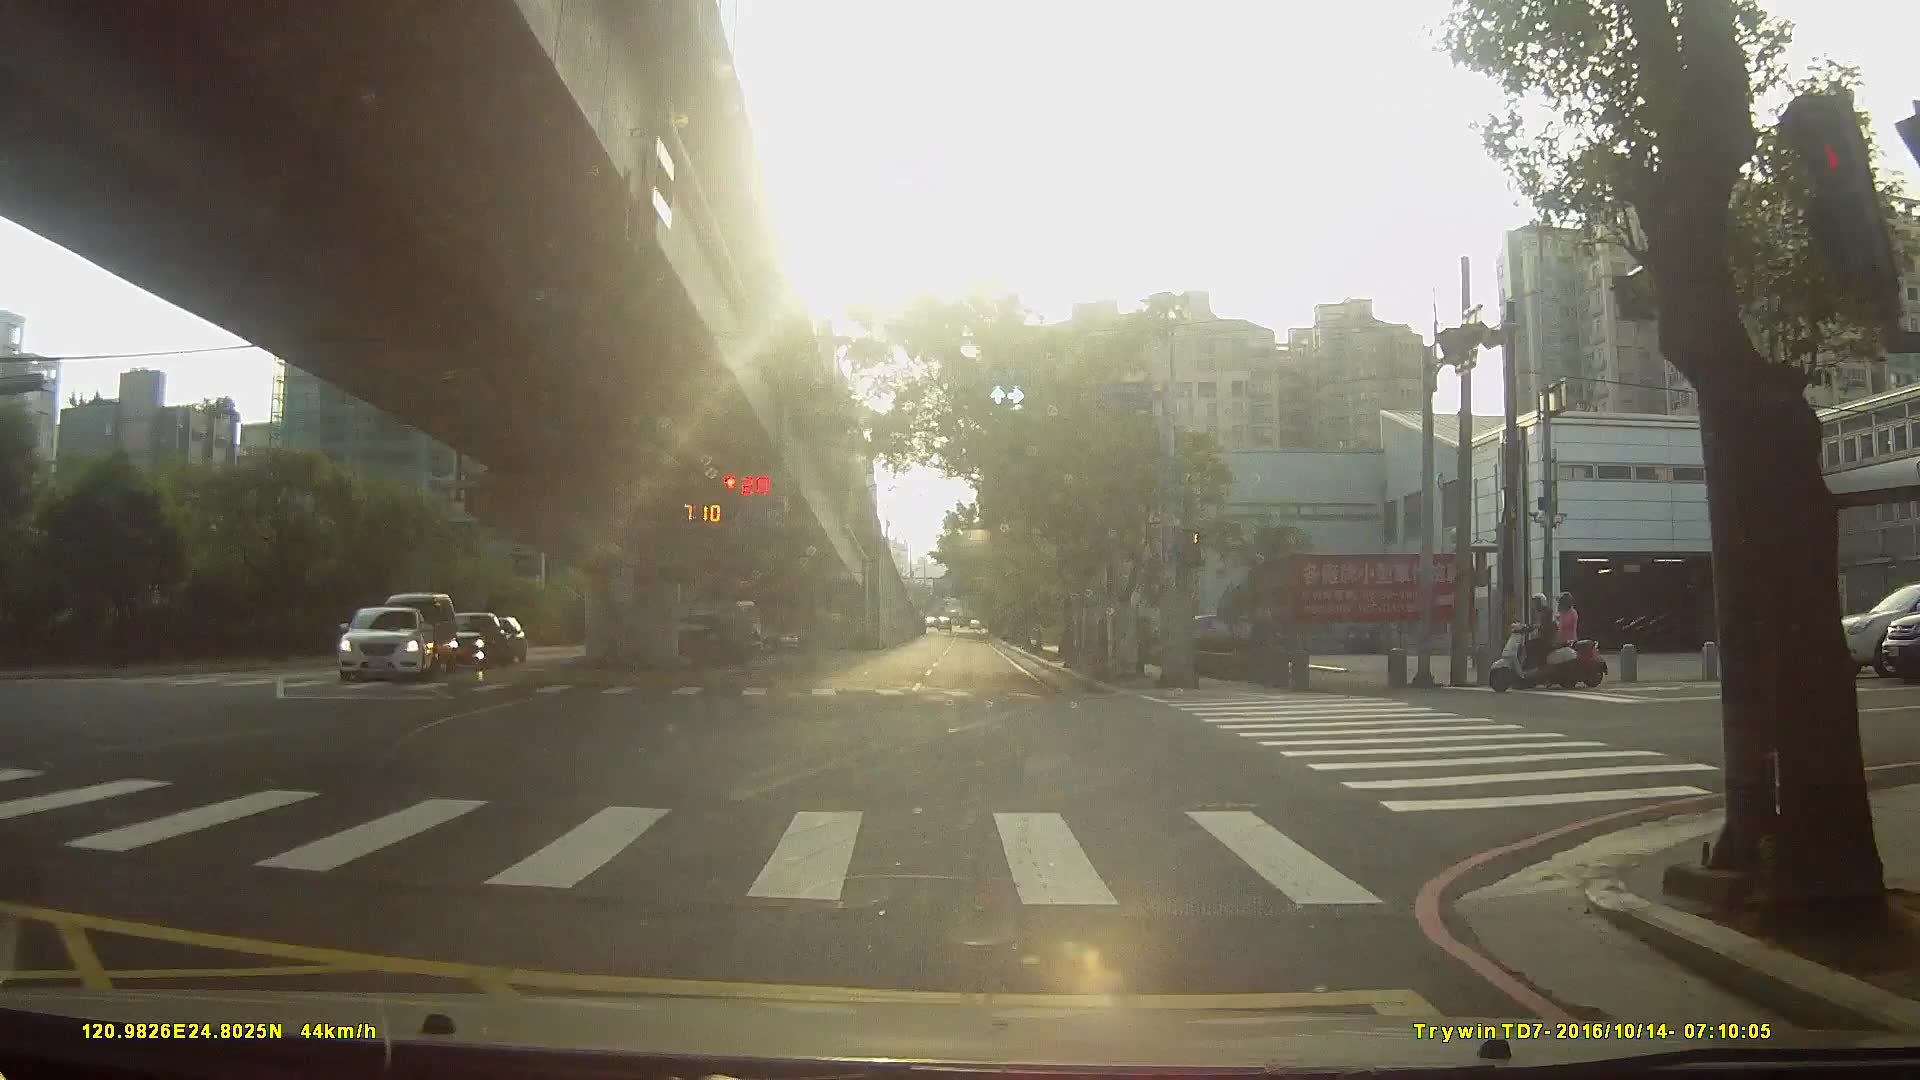rider: (1487, 591, 1580, 691)
vehicle: (1823, 591, 1920, 682), (329, 606, 428, 685), (650, 611, 760, 672), (431, 610, 508, 670)
